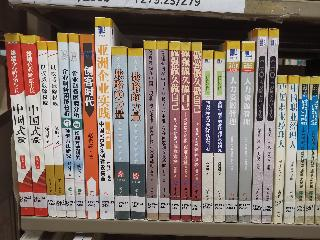book-spine: (1, 32, 34, 217), (19, 34, 49, 217), (249, 28, 270, 225), (95, 15, 115, 220), (124, 47, 147, 220), (260, 28, 280, 225), (36, 40, 58, 218), (236, 40, 257, 225), (108, 46, 130, 220), (56, 32, 76, 219), (79, 34, 99, 219), (68, 32, 87, 219), (46, 40, 66, 217), (224, 39, 242, 224), (144, 40, 159, 222), (271, 74, 289, 225), (293, 75, 311, 226), (156, 40, 171, 221), (213, 50, 227, 223), (201, 51, 215, 223), (304, 75, 320, 224), (168, 41, 180, 222), (180, 42, 192, 222), (190, 42, 202, 222), (284, 76, 298, 225)
